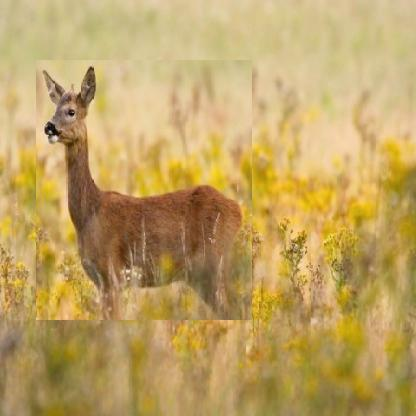Deer: (36, 60, 252, 320)
